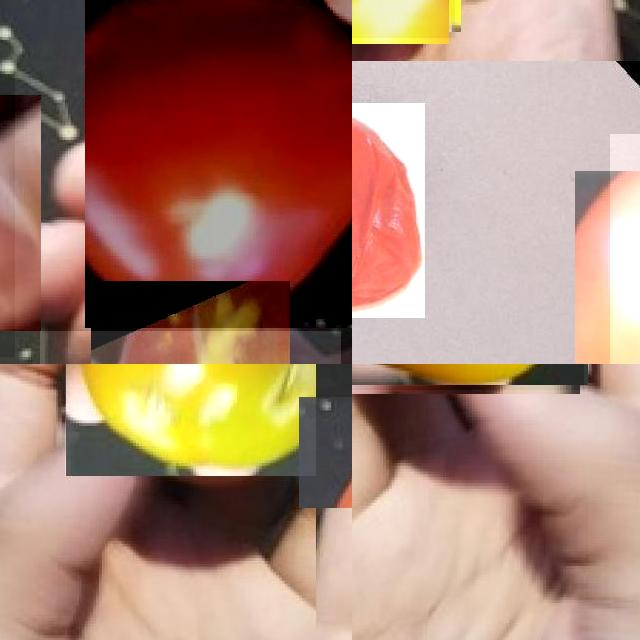Fresh Tomato: (85, 0, 352, 328)
Rotten Tomato: (65, 364, 316, 476), (352, 103, 424, 318)
